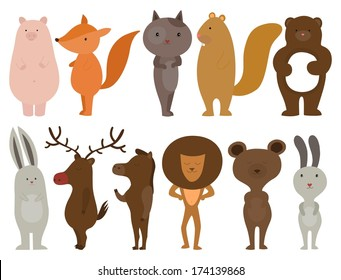animal: (47, 125, 123, 253), (55, 15, 136, 115), (196, 10, 272, 111), (157, 133, 221, 250), (226, 133, 284, 251), (272, 12, 335, 117), (286, 132, 332, 251), (9, 122, 50, 254), (11, 16, 62, 117), (114, 145, 156, 251)
cat: (142, 7, 196, 119)
